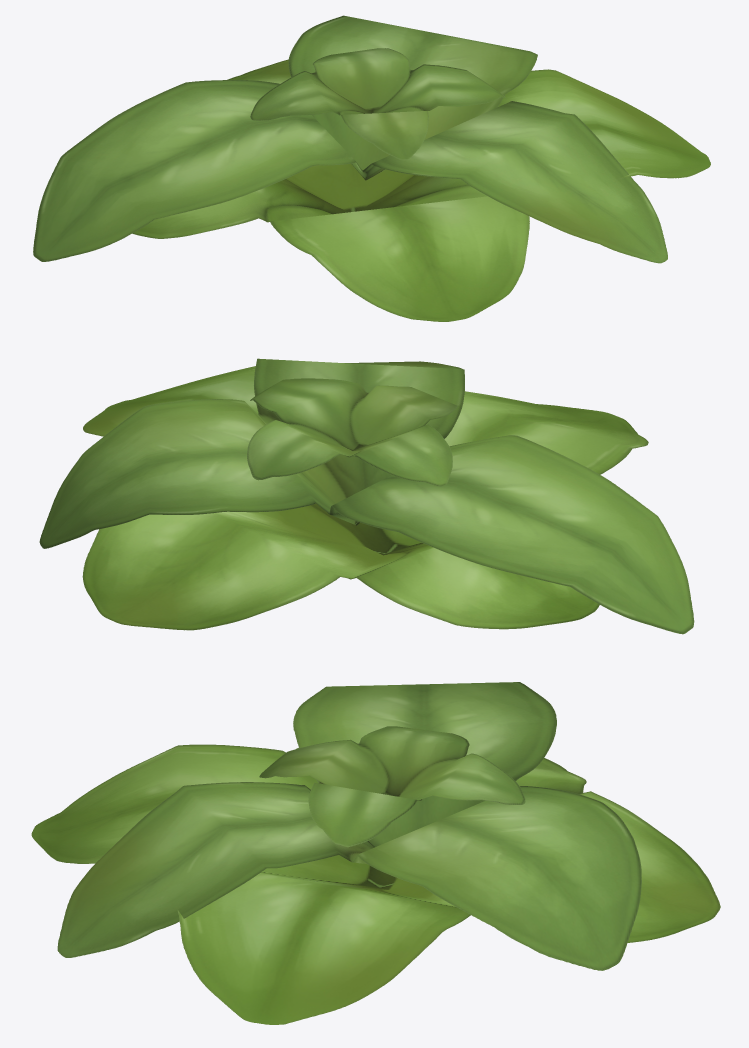
The model's file is big plant.fbx.
3 renders of one model, top to bottom at view 1: azimuth 30°, elevation 25°; view 2: azimuth 150°, elevation 25°; view 3: azimuth 270°, elevation 25°, orthographic. The views are drawn at different scales.
Parts seen in each view (by area): view 1: big plant; view 2: big plant; view 3: big plant.
Boxes of the visible parts, box(x1,y1,x2,y2) form: big plant: box(33, 15, 710, 321); big plant: box(39, 358, 694, 634); big plant: box(31, 682, 720, 1024).
Size of the model in its own units: 103 by 18.88 by 91.66.
